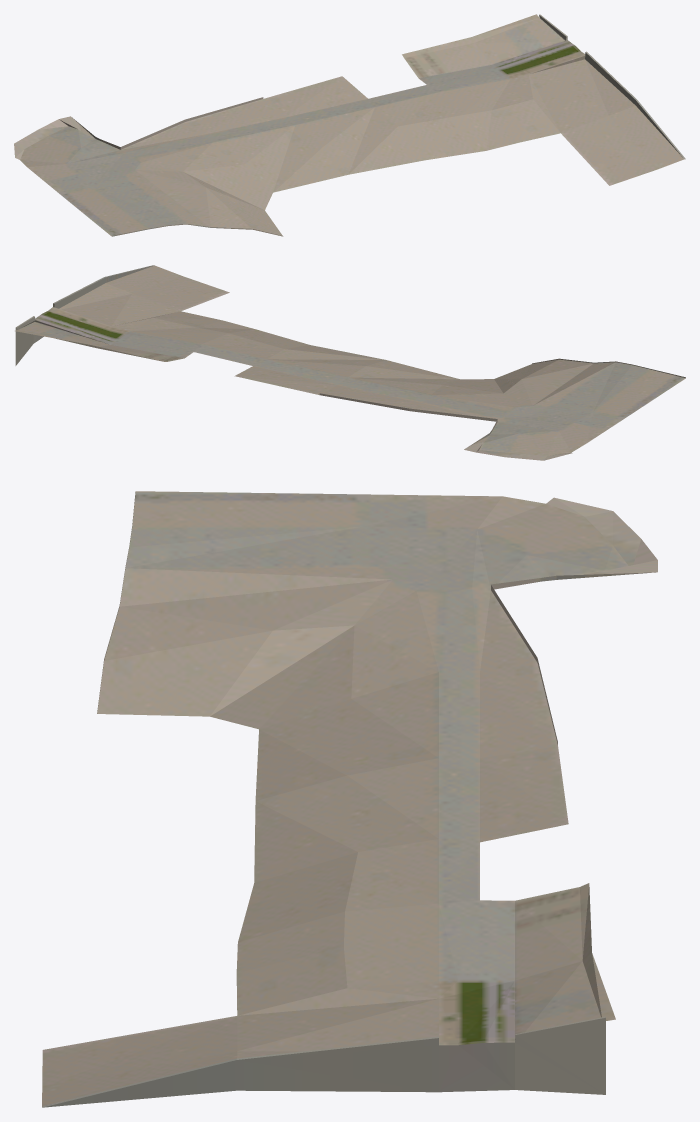
Rendered from lodlabeach_04bx01.obj.
3 renders of one model, top to bottom at view 1: azimuth 30°, elevation 25°; view 2: azimuth 150°, elevation 25°; view 3: azimuth 270°, elevation 25°, orthographic. The views are drawn at different scales.
Visible parts, largest first — view 1: LODLAbeach_04bx01; view 2: LODLAbeach_04bx01; view 3: LODLAbeach_04bx01.
Boxes of the visible parts, x1=… form: LODLAbeach_04bx01: x1=14, y1=14, x2=685, y2=236; LODLAbeach_04bx01: x1=15, y1=265, x2=685, y2=460; LODLAbeach_04bx01: x1=42, y1=491, x2=657, y2=1107.
Bounding box in the file's own units: 306 × 27.13 × 148.
1 material, 1 textured.
